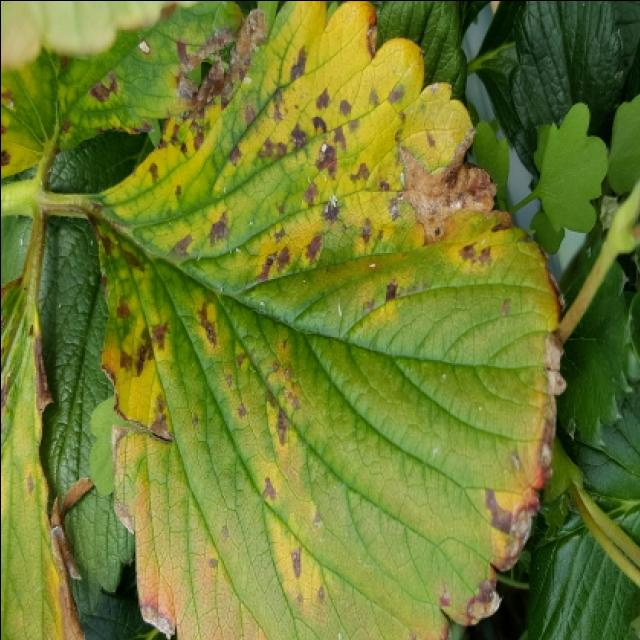Angular Leafspot: (76, 2, 569, 640), (0, 2, 245, 179), (0, 231, 96, 640)
